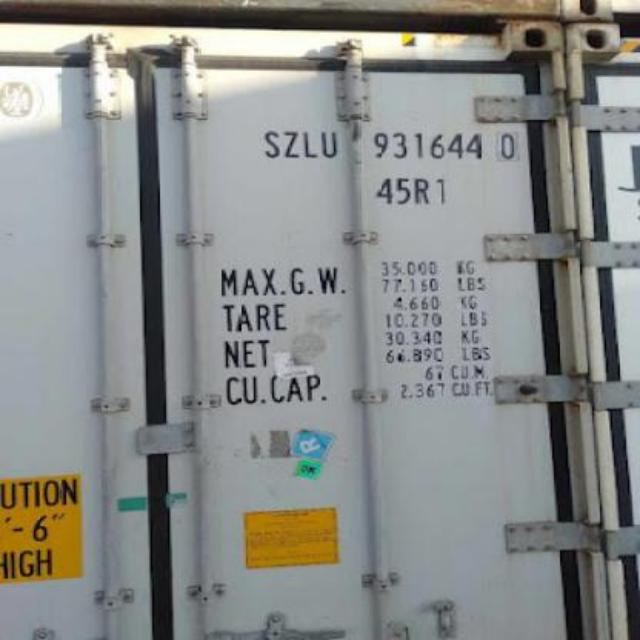0: (496, 124, 522, 164)
1: (408, 126, 428, 162)
3: (390, 127, 408, 157)
4: (462, 124, 482, 164), (451, 125, 464, 165)
6: (428, 124, 448, 166)
9: (370, 128, 390, 158)
L: (298, 124, 320, 162)
S: (260, 126, 280, 160)
U: (318, 124, 340, 162)
Z: (280, 124, 298, 160)
